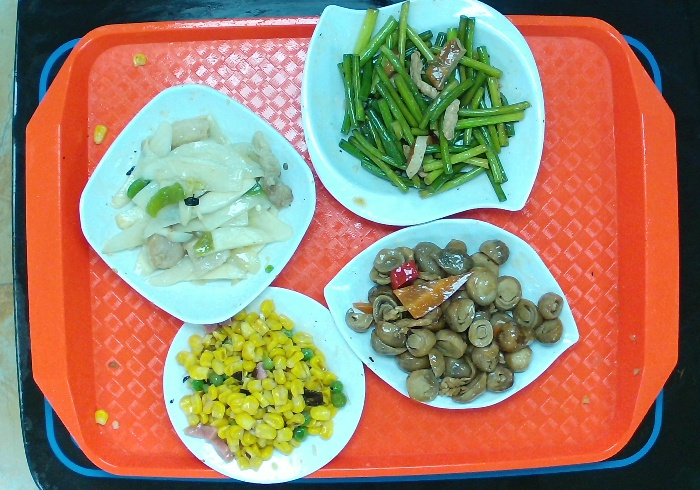RJxy-Da_Du_Pan: (322, 213, 581, 416)
RJxy-Shuang_Jiao_Pan: (298, 1, 545, 227)
RJxy-Si_Fang_Wan: (77, 81, 314, 322)
RJxy-Xiao_Yuan_Die: (160, 288, 368, 489)
